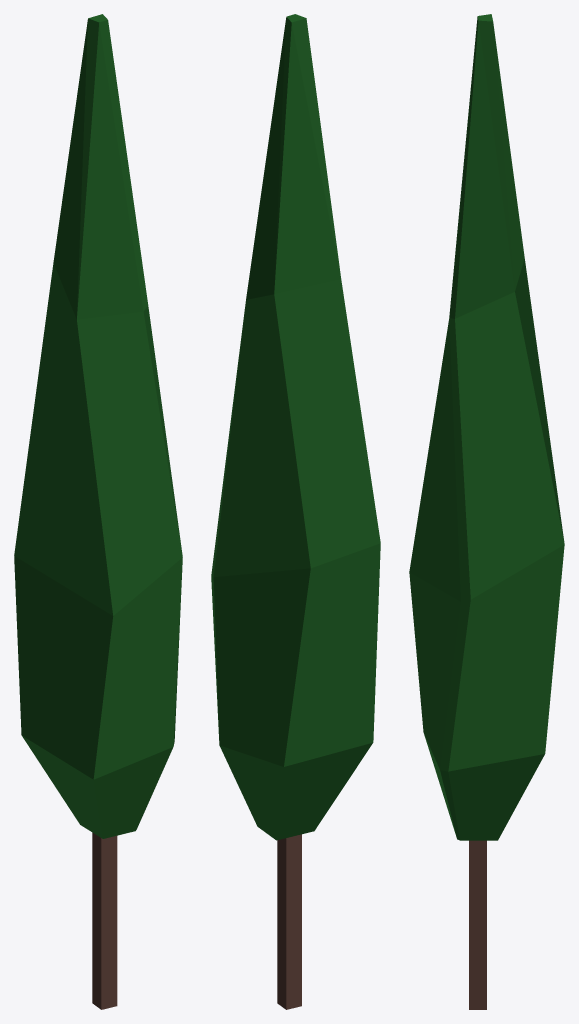
Rendered from Tree_4.FBX.
The picture shows the model from 3 angles, left to right: view 1: azimuth 30°, elevation 25°; view 2: azimuth 210°, elevation 25°; view 3: azimuth 270°, elevation 25°; orthographic projection.
Parts seen in each view (by area): view 1: Tree_4; view 2: Tree_4; view 3: Tree_4.
Boxes of the visible parts, x1=… form: Tree_4: x1=14, y1=14, x2=182, y2=1009; Tree_4: x1=211, y1=14, x2=380, y2=1009; Tree_4: x1=409, y1=14, x2=564, y2=1009.
Size of the model in its own units: 92.32 by 598 by 85.3.
